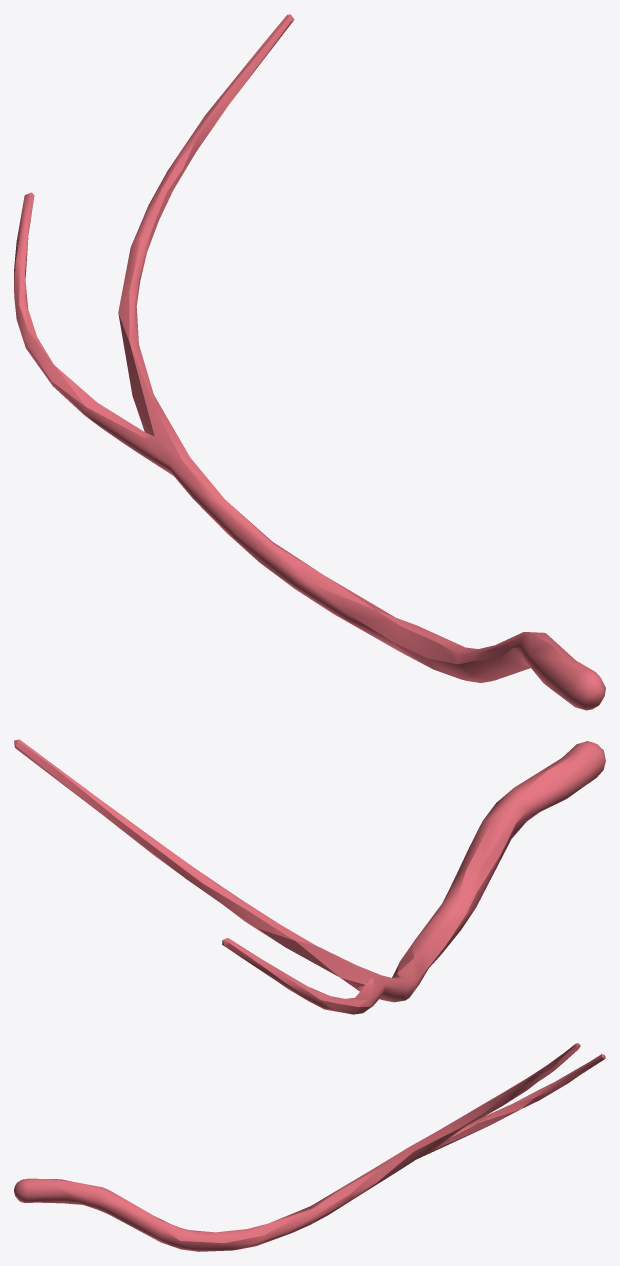
Rendered from fma75914_fj5216.glb.
3 views of the same model, one above another, from view 1: azimuth 30°, elevation 25°; view 2: azimuth 150°, elevation 25°; view 3: azimuth 270°, elevation 25° (orthographic). The views are drawn at different scales.
Parts seen in each view (by area): view 1: FMA75914_FJ5216; view 2: FMA75914_FJ5216; view 3: FMA75914_FJ5216.
Part boxes in pixels (<box>): FMA75914_FJ5216: <box>14,14,605,710</box>; FMA75914_FJ5216: <box>14,739,605,1014</box>; FMA75914_FJ5216: <box>14,1043,605,1251</box>.
Bounding box in the file's own units: 0.0168 × 0.0214 × 0.0459.
